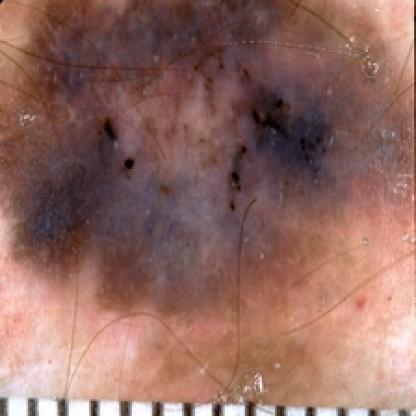Skin_Cancer-Malignant: (0, 1, 416, 318)
